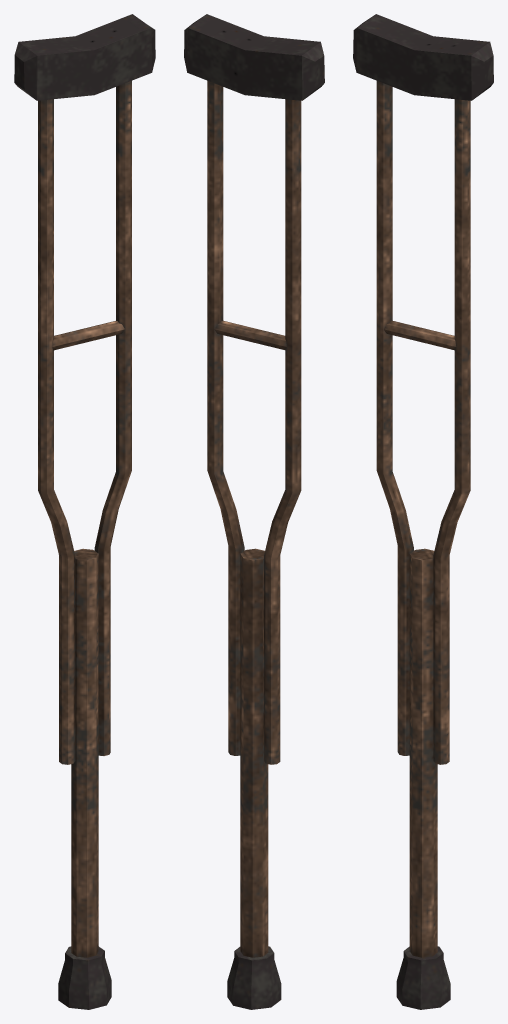
Rendered from crutches.fbx.
The picture shows the model from 3 angles, left to right: view 1: azimuth 30°, elevation 25°; view 2: azimuth 150°, elevation 25°; view 3: azimuth 330°, elevation 25°; orthographic projection.
Parts seen in each view (by area): view 1: crutches; view 2: crutches; view 3: crutches.
Boxes of the visible parts, <box> form: crutches: <box>14,14,155,1009</box>; crutches: <box>184,14,324,1009</box>; crutches: <box>353,14,493,1009</box>.
Size of the model in its own units: 17.01 by 120 by 5.66.
1 material, 1 textured.
